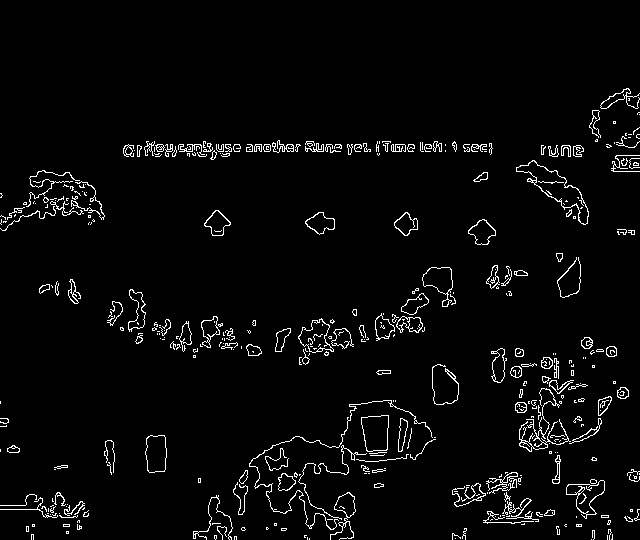left: (300, 205, 342, 245), (387, 206, 424, 243)
up: (460, 213, 502, 256), (195, 203, 237, 245)
